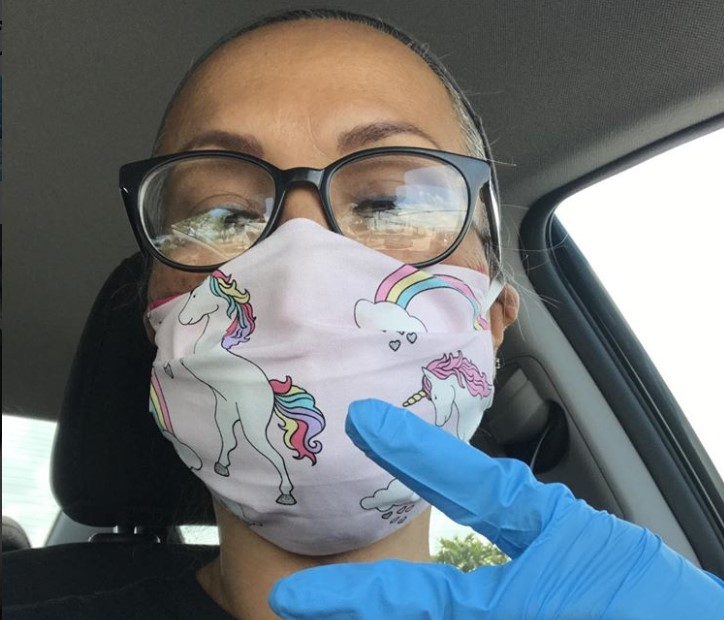face_with_mask: (112, 5, 527, 566)
